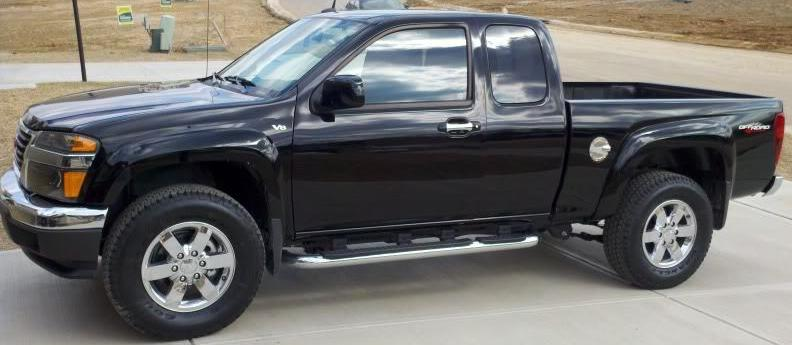front_view: (3, 104, 113, 295)
headlight: (9, 119, 108, 212)
side_glass: (302, 6, 549, 122)
